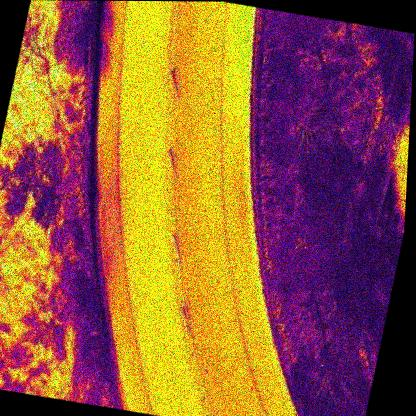Normal: (393, 134, 409, 167), (397, 167, 407, 201)
Shadow: (384, 165, 405, 202), (377, 197, 397, 231), (389, 197, 406, 233)
